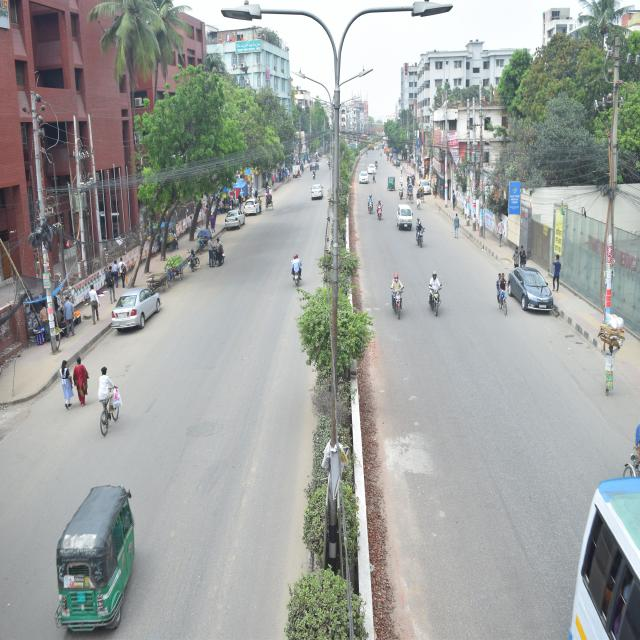car: (95, 273, 174, 350), (507, 257, 558, 330), (220, 202, 252, 236), (239, 193, 268, 222), (392, 197, 414, 234), (416, 167, 438, 200), (302, 172, 324, 202), (302, 148, 322, 178), (363, 156, 377, 181), (355, 166, 368, 192)
motorbike: (421, 262, 451, 326), (278, 239, 311, 296), (385, 267, 412, 323), (202, 226, 230, 272), (412, 213, 428, 256), (368, 189, 379, 225), (376, 196, 389, 226), (394, 177, 405, 198)
